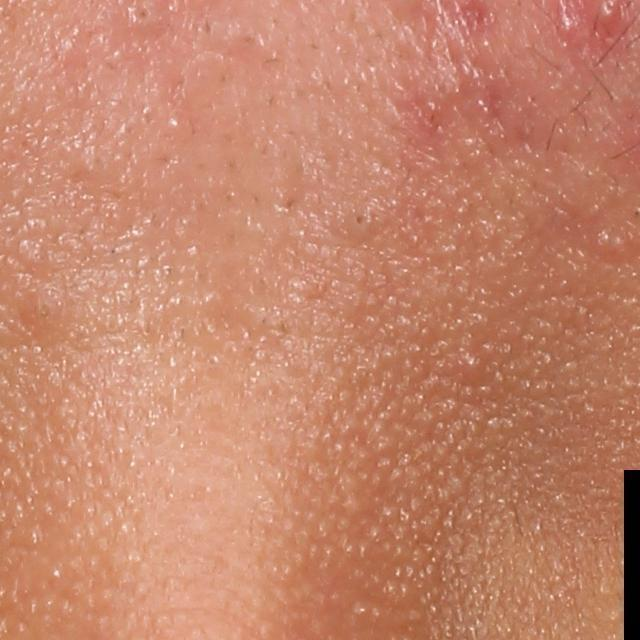comedo: (29, 290, 64, 332), (131, 0, 157, 26), (462, 346, 485, 375)
pustule: (555, 5, 577, 42)
